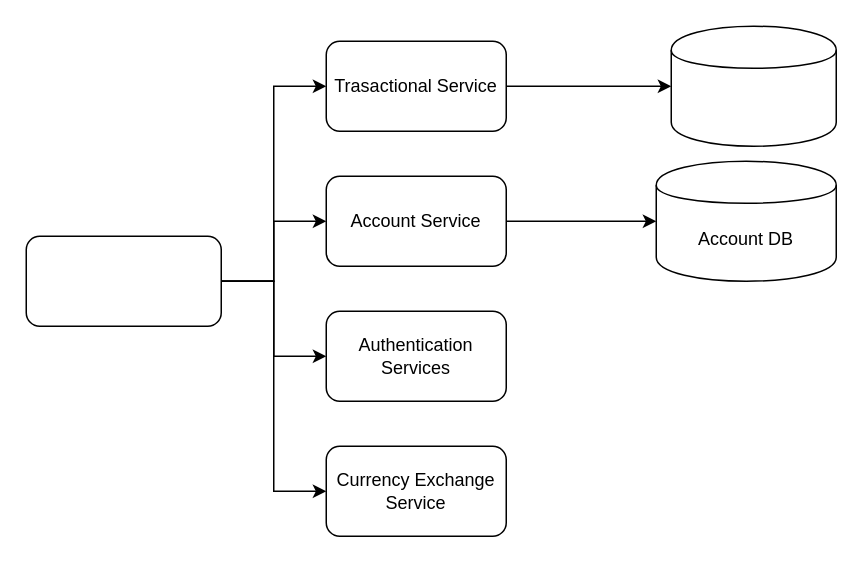
Some shapes in this 863 by 563 pixel diagram are drawn without their labels. Each missing label, with the centre of its shape:
"API GATEWAY" goes at point (123, 280).
"Transactional DB" goes at point (753, 85).
